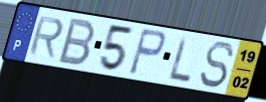5: (96, 22, 140, 74)
B: (55, 16, 97, 68)
L: (168, 34, 194, 84)
P: (126, 27, 168, 78)
R: (26, 15, 66, 60)
S: (198, 40, 236, 90)
